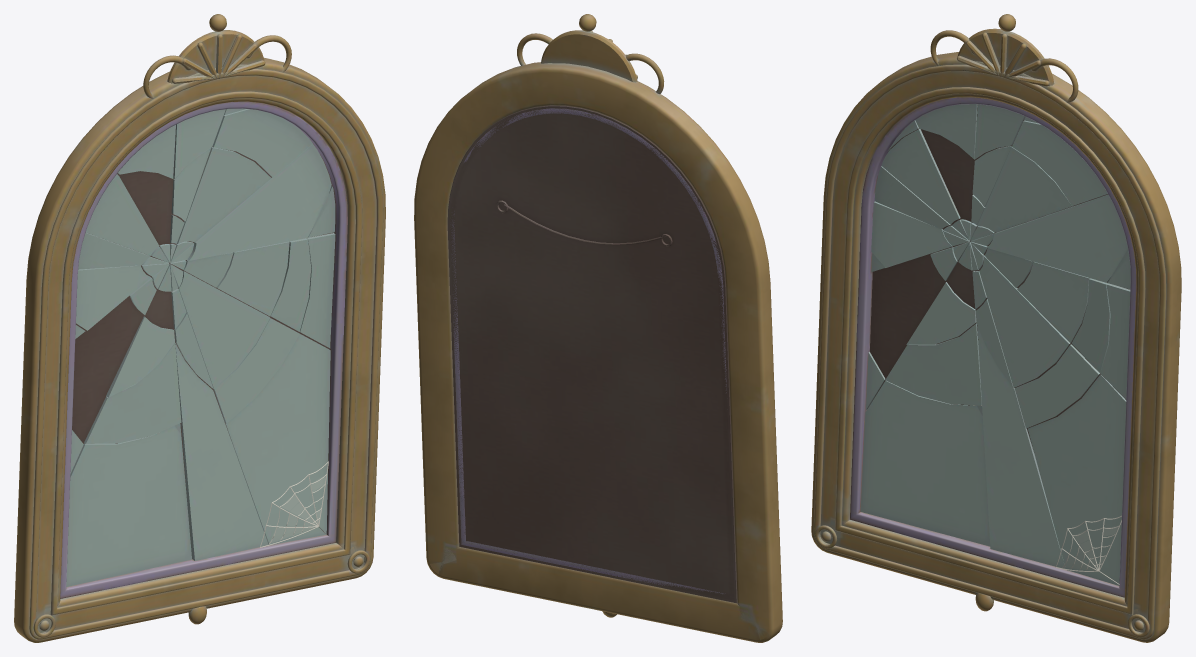
File: cracked-mirror.glb
3 renders of one model, left to right at view 1: azimuth 30°, elevation 25°; view 2: azimuth 150°, elevation 25°; view 3: azimuth 330°, elevation 25°, orthographic.
Parts seen in each view (by area): view 1: cracked-mirror_body, cracked-mirror_web; view 2: cracked-mirror_body; view 3: cracked-mirror_body, cracked-mirror_web.
Part boxes in pixels (x1,y1,x2,y2): cracked-mirror_body: (14, 14, 385, 642); cracked-mirror_web: (259, 461, 328, 547); cracked-mirror_body: (414, 14, 782, 642); cracked-mirror_body: (811, 14, 1181, 642); cracked-mirror_web: (1055, 515, 1121, 584).
Size of the model in its own units: 0.745 by 1.18 by 0.0598.
Materials: 3 (1 with a texture image).
